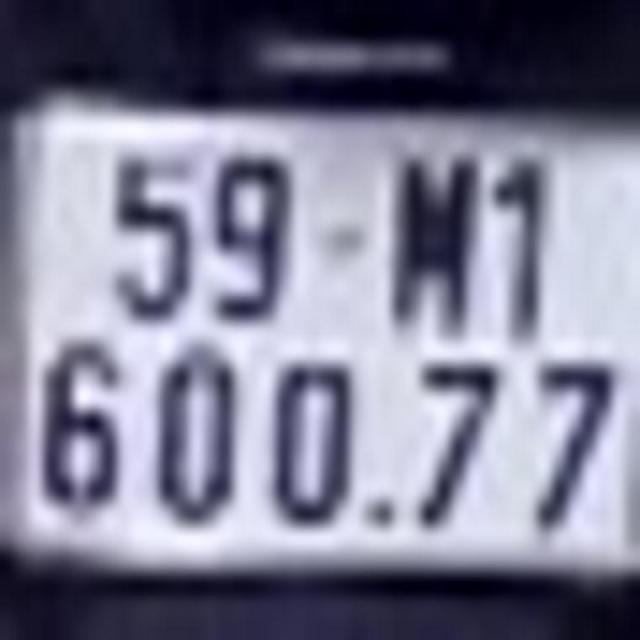0: (159, 339, 234, 527), (273, 357, 348, 530)
1: (493, 160, 542, 344)
5: (112, 154, 194, 323)
6: (42, 338, 120, 524)
7: (534, 355, 613, 527), (418, 358, 497, 528)
9: (214, 156, 287, 318)
M: (391, 155, 474, 335)
